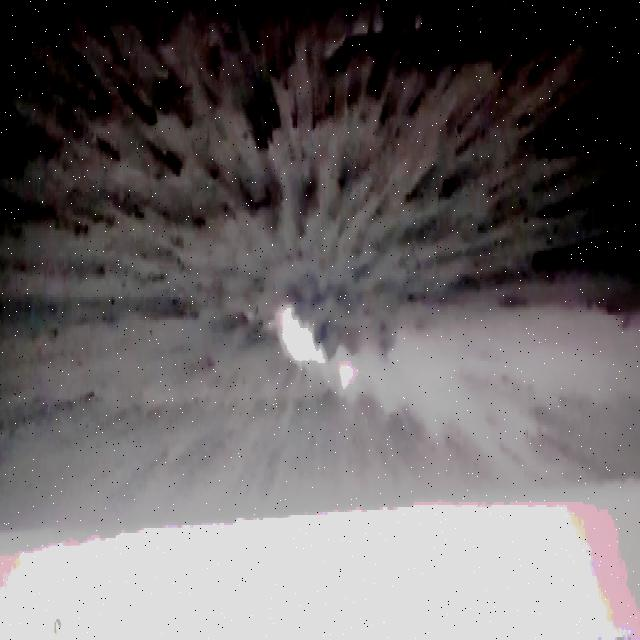asap: (261, 275, 543, 457)
